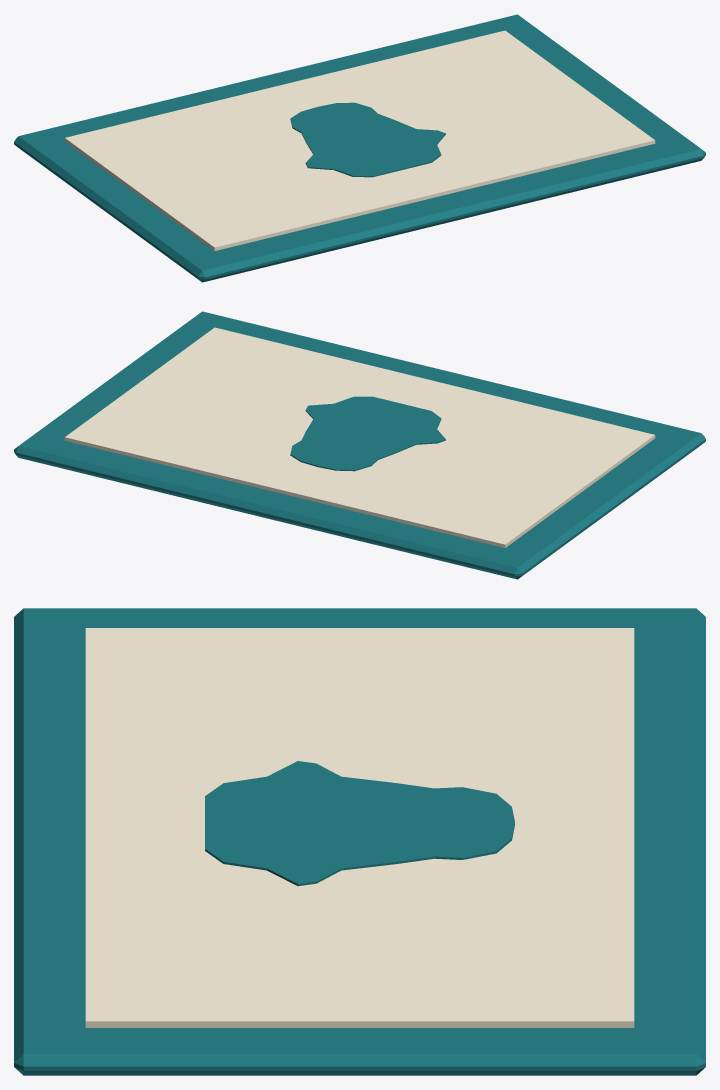
Rendered from entry_mat.glb.
The picture shows the model from 3 angles, top to bottom: view 1: azimuth 30°, elevation 25°; view 2: azimuth 150°, elevation 25°; view 3: azimuth 270°, elevation 25°; orthographic projection. The views are drawn at different scales.
Visible parts, largest first — view 1: entry_mat; view 2: entry_mat; view 3: entry_mat.
Boxes of the visible parts, x1,y1,x2,y2 form: entry_mat: (14, 14, 705, 282); entry_mat: (14, 311, 705, 579); entry_mat: (14, 608, 705, 1075).
Size of the model in its own units: 0.9 by 0.028 by 0.58.
